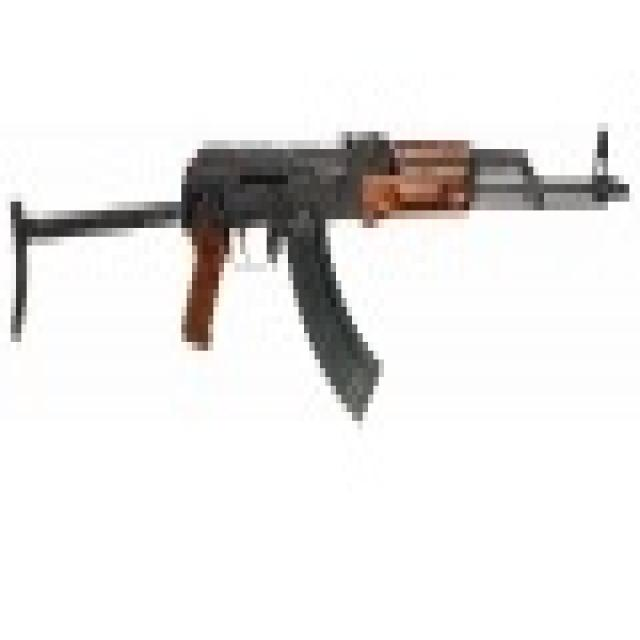Gun: (28, 88, 630, 374)
